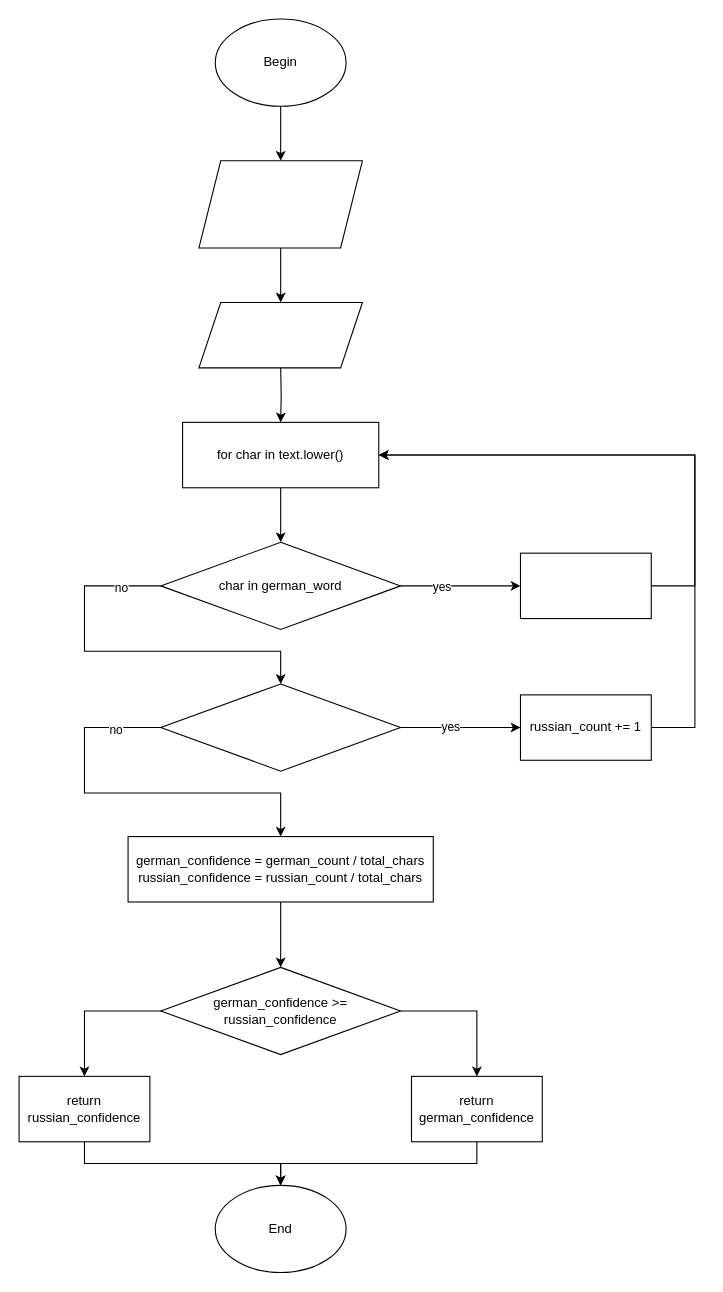
The diagram is 723 pixels wide and 1292 high, and some of its shapes have lost their labels. The box of each missing label's shape, as (x1, y1, x2, y2) in pixels:
char in russian_word: (160, 683, 401, 771)
german_count += 1: (519, 552, 651, 619)
german_count = 0 russian_count = 0: (198, 301, 362, 368)
german_short_word russian_short_word: (198, 160, 362, 248)
